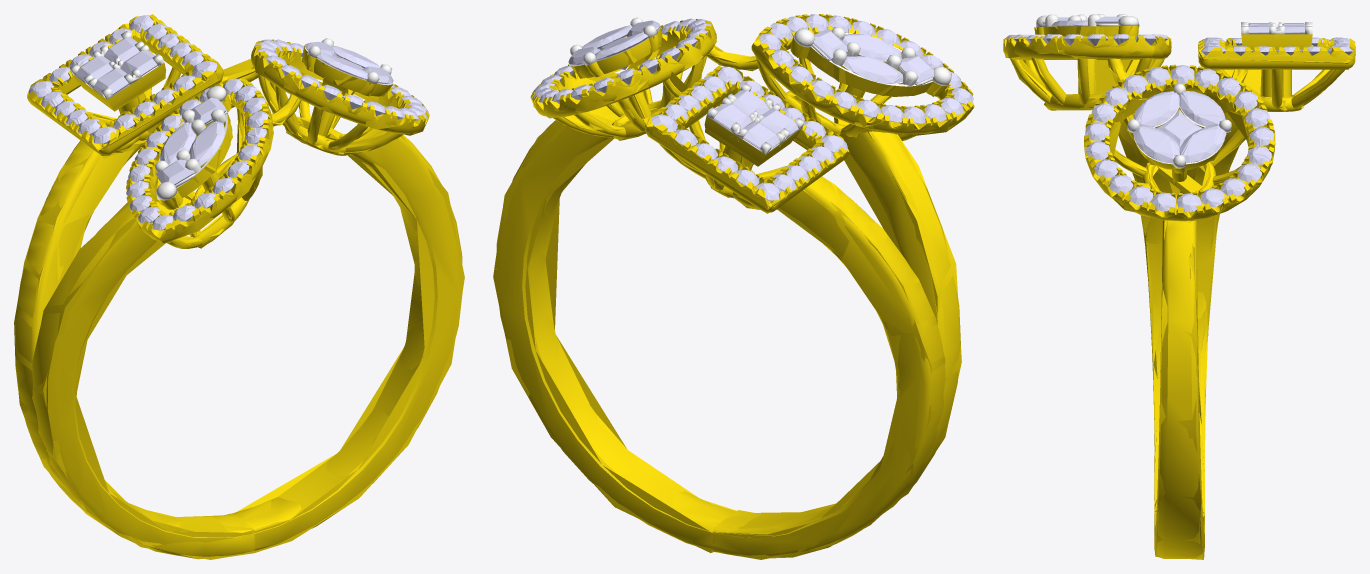
The model's file is DLR-D000733993.glb.
The picture shows the model from 3 angles, left to right: view 1: azimuth 30°, elevation 25°; view 2: azimuth 150°, elevation 25°; view 3: azimuth 270°, elevation 25°; orthographic projection. The views are drawn at different scales.
Visible parts, largest first — view 1: highPolyMesh, lowPolyMesh; view 2: highPolyMesh, lowPolyMesh; view 3: highPolyMesh, lowPolyMesh.
Part boxes in pixels (box(x1,y1,x2,y2)): highPolyMesh: box(15, 14, 462, 556); lowPolyMesh: box(14, 15, 464, 559); highPolyMesh: box(496, 14, 973, 556); lowPolyMesh: box(493, 14, 974, 559); highPolyMesh: box(1003, 14, 1355, 558); lowPolyMesh: box(1003, 14, 1355, 559).
Size of the model in its own units: 0.0197 by 0.0214 by 0.0138.
